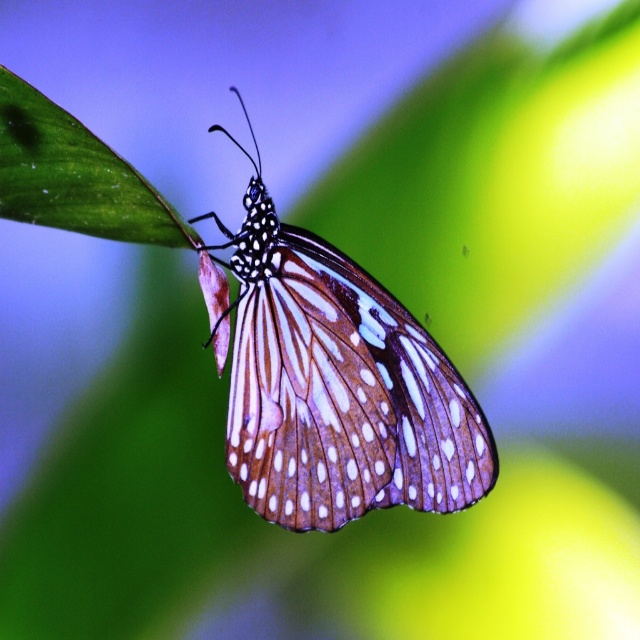Butterfly: (199, 90, 478, 557)
